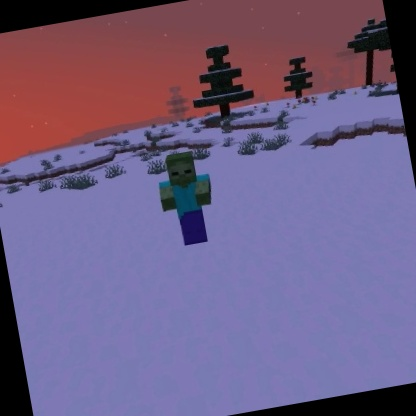zombie: (149, 144, 224, 252)
